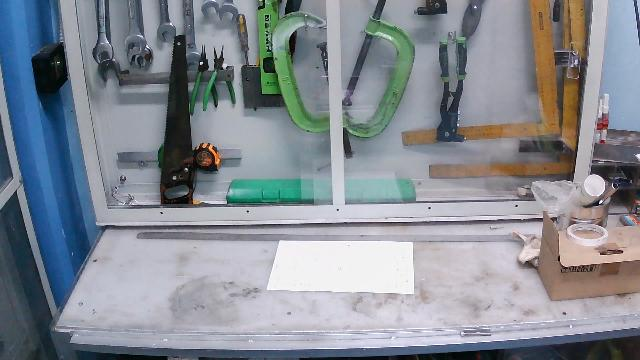tang_cucut_lancip_1: (208, 42, 237, 110)
